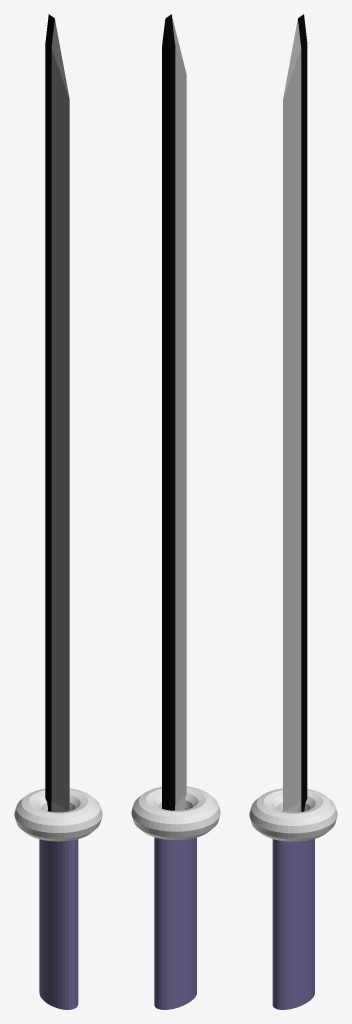
Rendered from sword2.gltf.
The picture shows the model from 3 angles, left to right: view 1: azimuth 30°, elevation 25°; view 2: azimuth 150°, elevation 25°; view 3: azimuth 330°, elevation 25°; orthographic projection.
Visible parts, largest first — view 1: Cube, Cylinder, Torus; view 2: Cube, Cylinder, Torus; view 3: Cube, Cylinder, Torus.
Boxes of the visible parts, x1,y1,x2,y2 form: Cube: [45, 14, 69, 812]; Cylinder: [39, 839, 78, 1009]; Torus: [14, 788, 102, 841]; Cube: [162, 14, 186, 810]; Cylinder: [154, 837, 196, 1009]; Torus: [131, 786, 220, 840]; Cube: [283, 14, 307, 812]; Cylinder: [272, 839, 314, 1009]; Torus: [249, 788, 337, 841].
Size of the model in its own units: 2.99 by 36.5 by 2.99.
